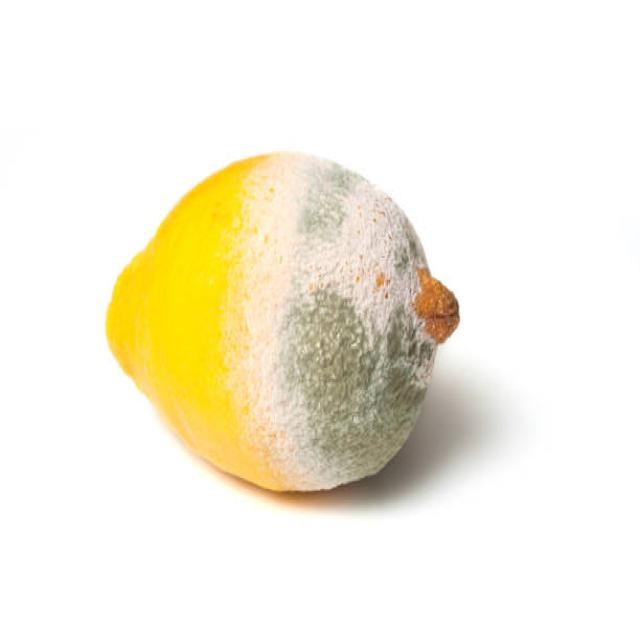Rotten: (105, 147, 460, 496)
